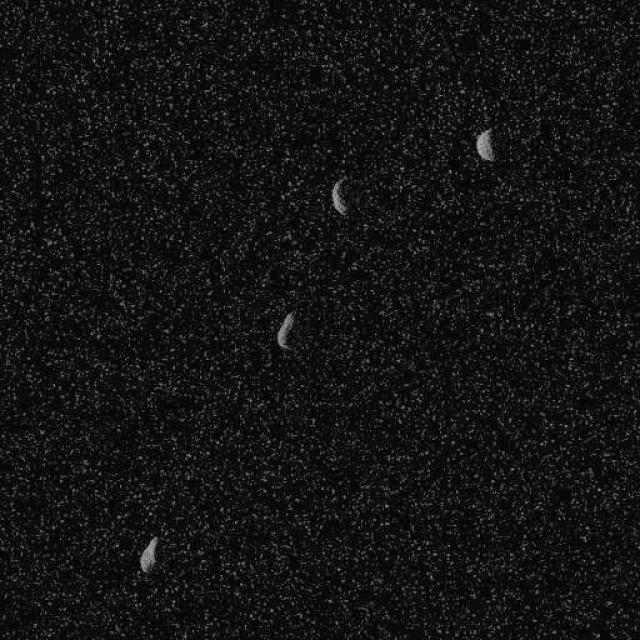D2: (275, 309, 296, 351), (330, 175, 351, 216), (138, 535, 158, 573), (474, 126, 495, 162)
